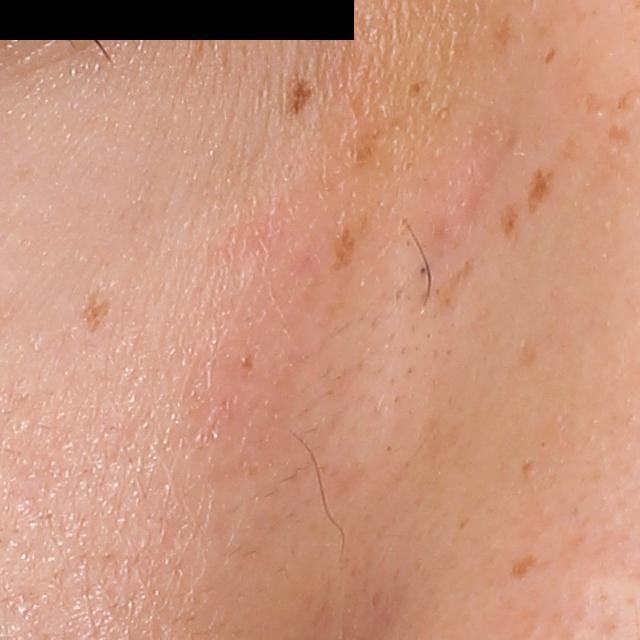melasma: (350, 124, 392, 167), (508, 551, 539, 589), (501, 193, 525, 242), (328, 227, 356, 267), (529, 169, 551, 216), (492, 10, 518, 49), (604, 123, 636, 149), (582, 89, 606, 121), (403, 77, 433, 101), (544, 44, 558, 67)
